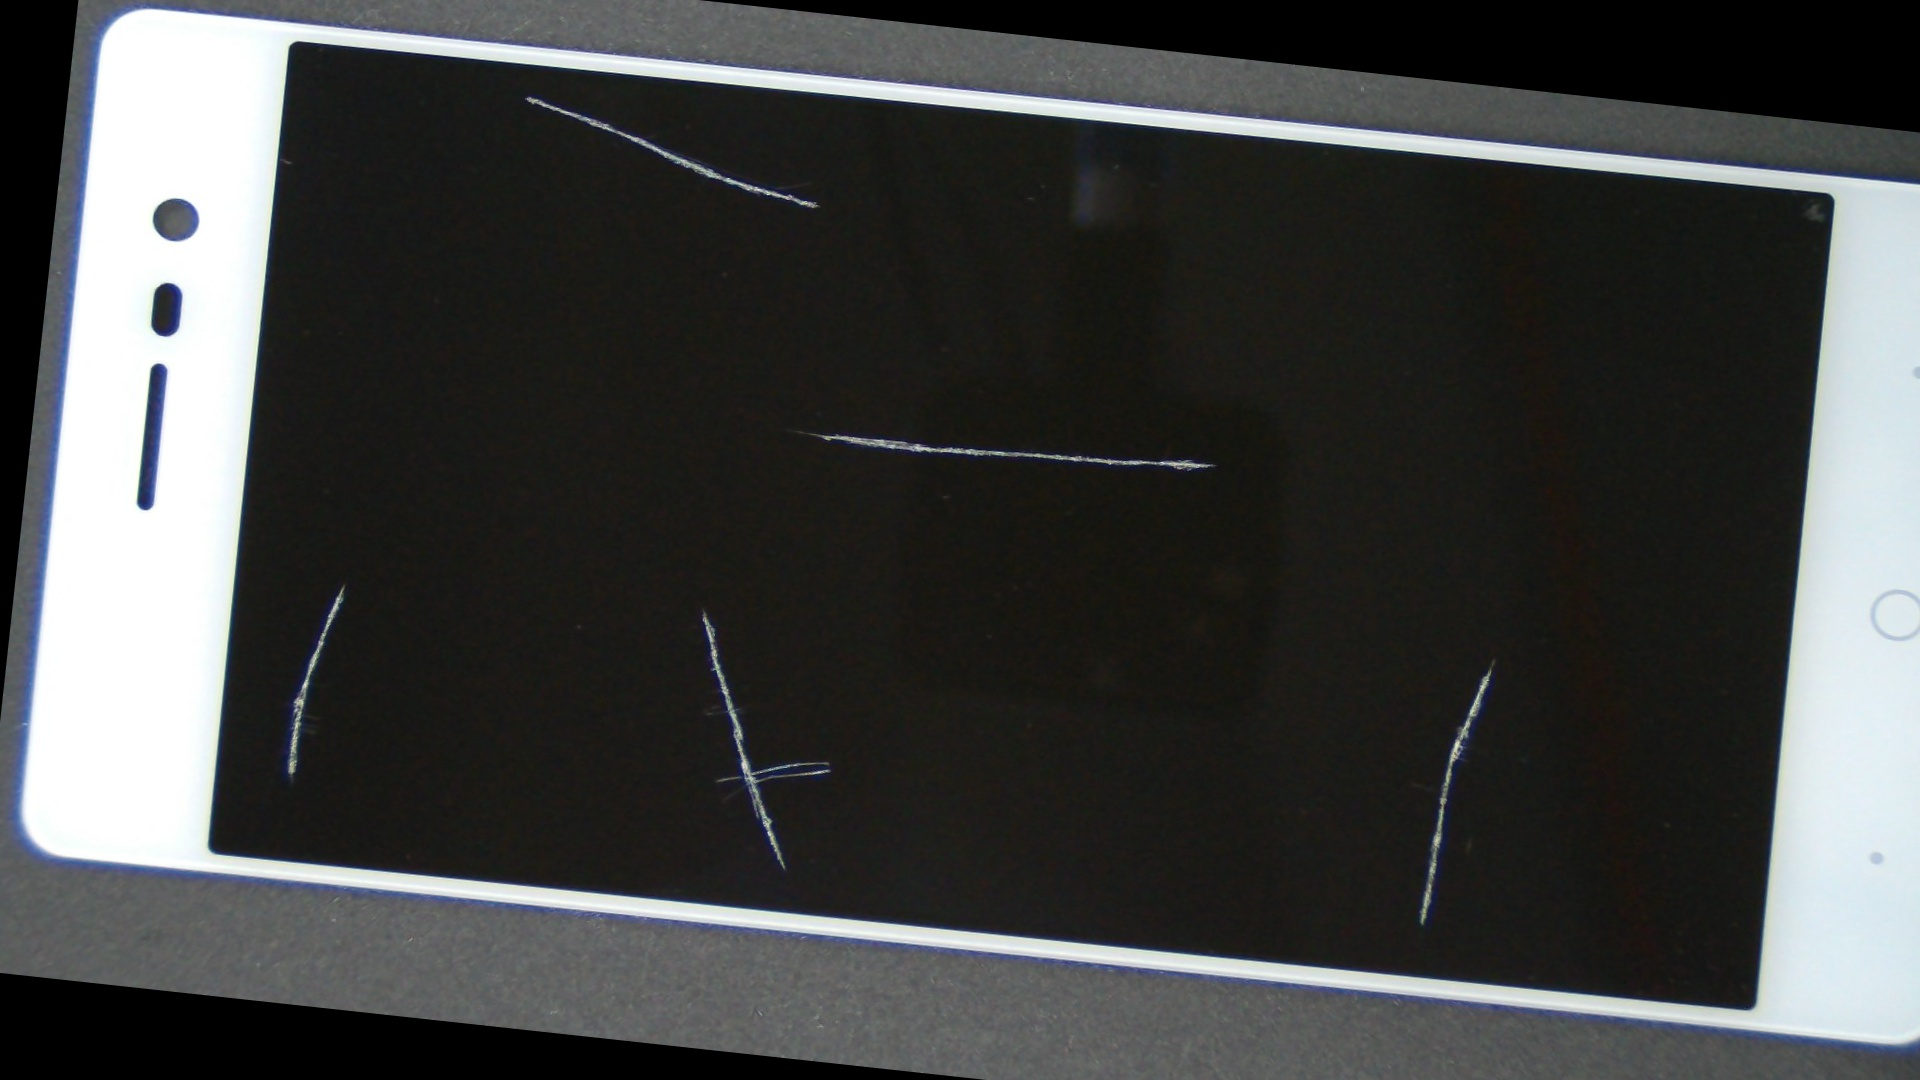oil: (728, 295, 1920, 998), (593, 195, 1778, 723), (331, 270, 1077, 947), (148, 257, 539, 909), (294, 15, 760, 178)
